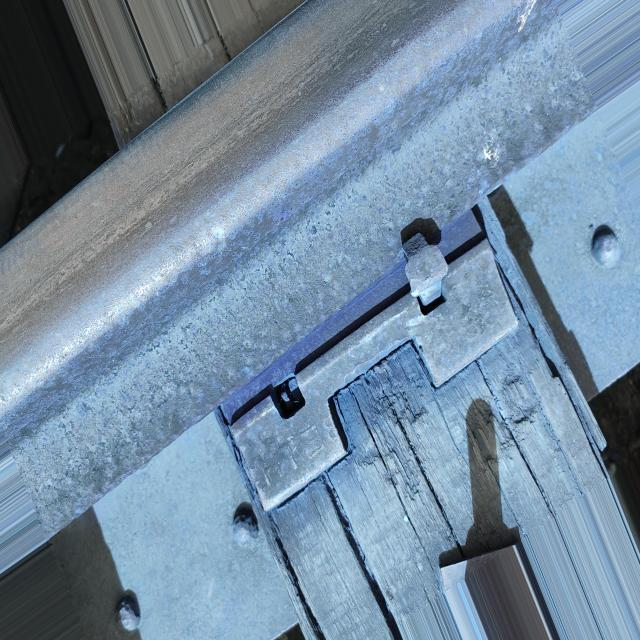Good Fasteners: (403, 233, 448, 306)
Missing Dogscrew: (271, 373, 305, 419)
